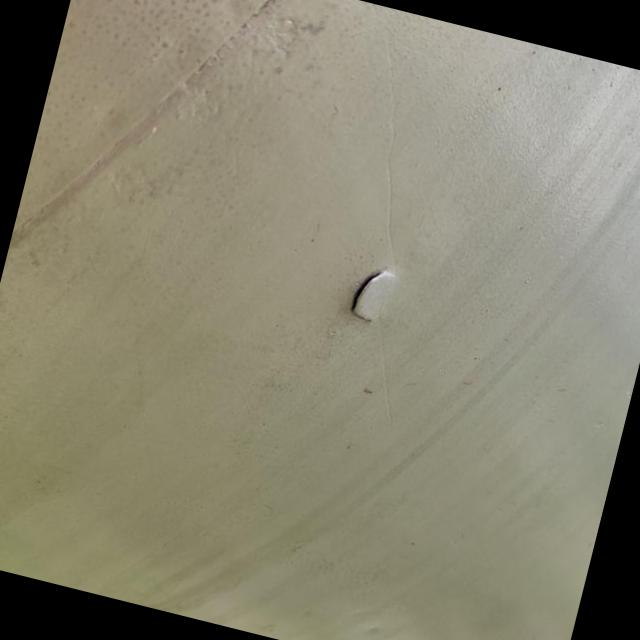Crack: (347, 267, 397, 319)
